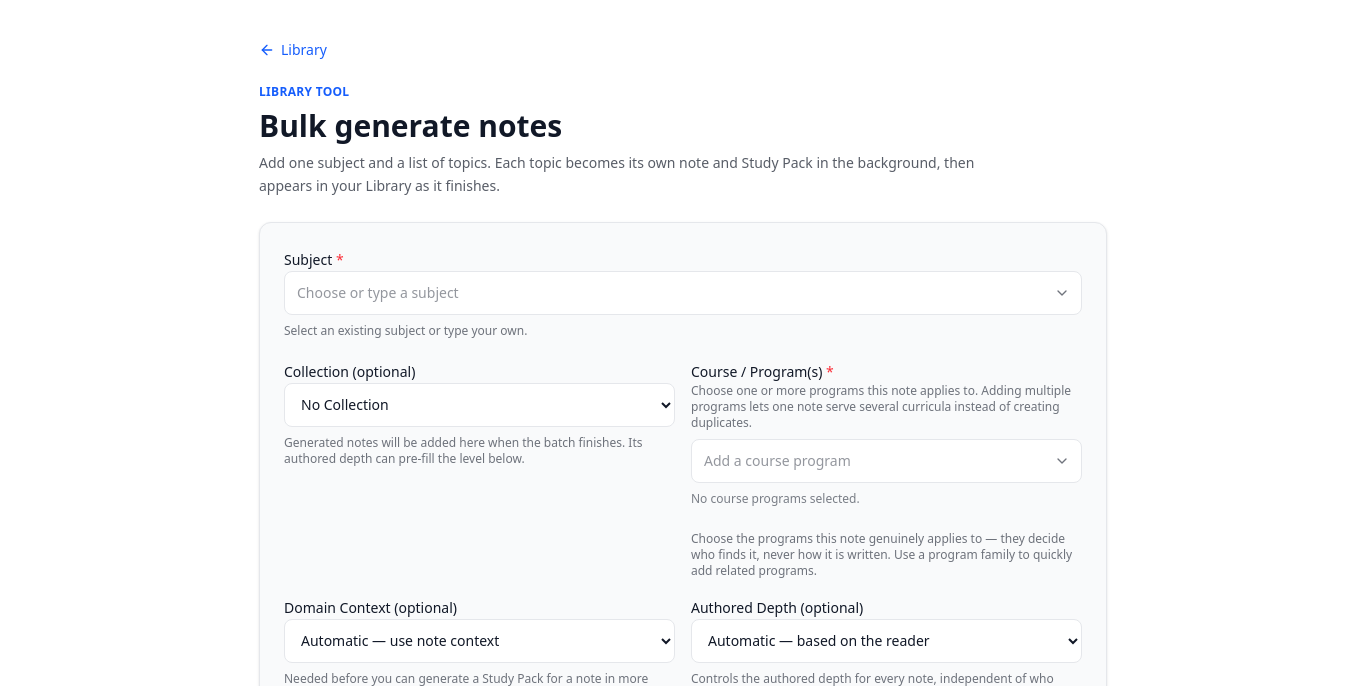
Test case: BulkGenerationPageClient › shows a zero-member family in the shared Add Course / Program modal
Type "Public Health" into the field named "Add a course or program" at (886, 460), box [691,438,1082,482]
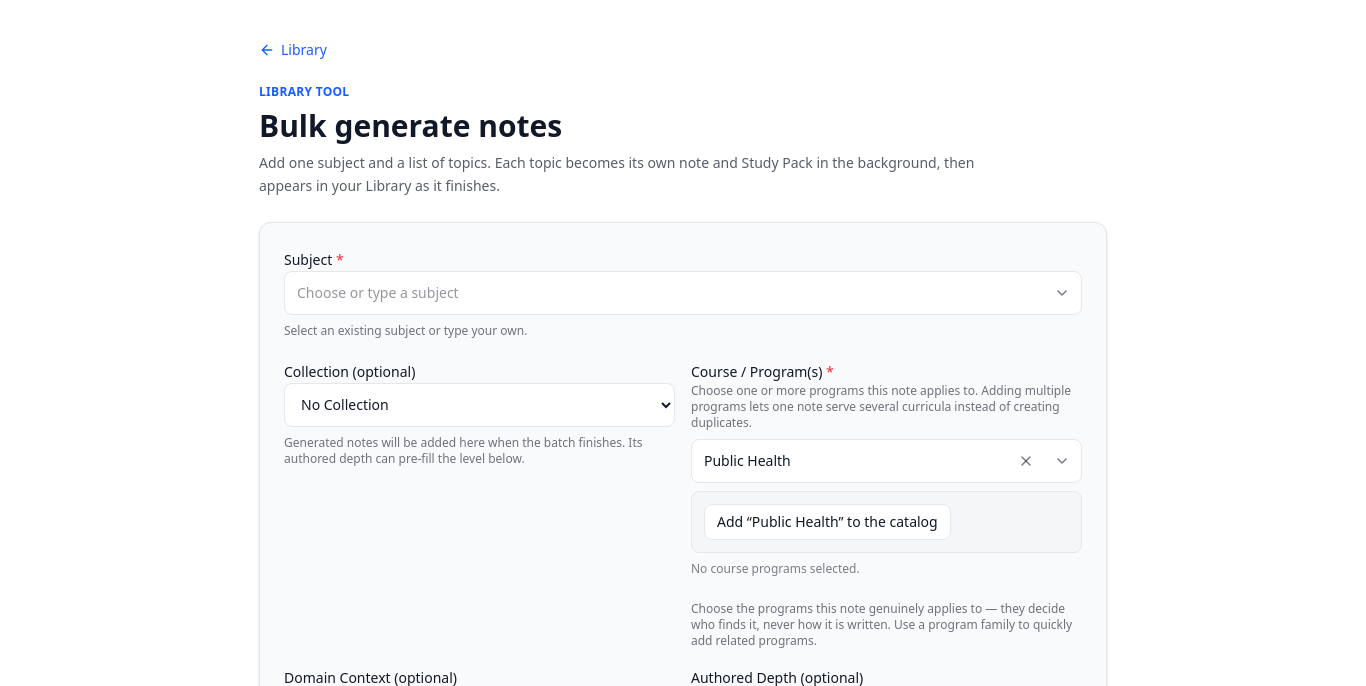
Click the button "Add “Public Health” to the catalog" at (827, 522), box [704,504,951,540]
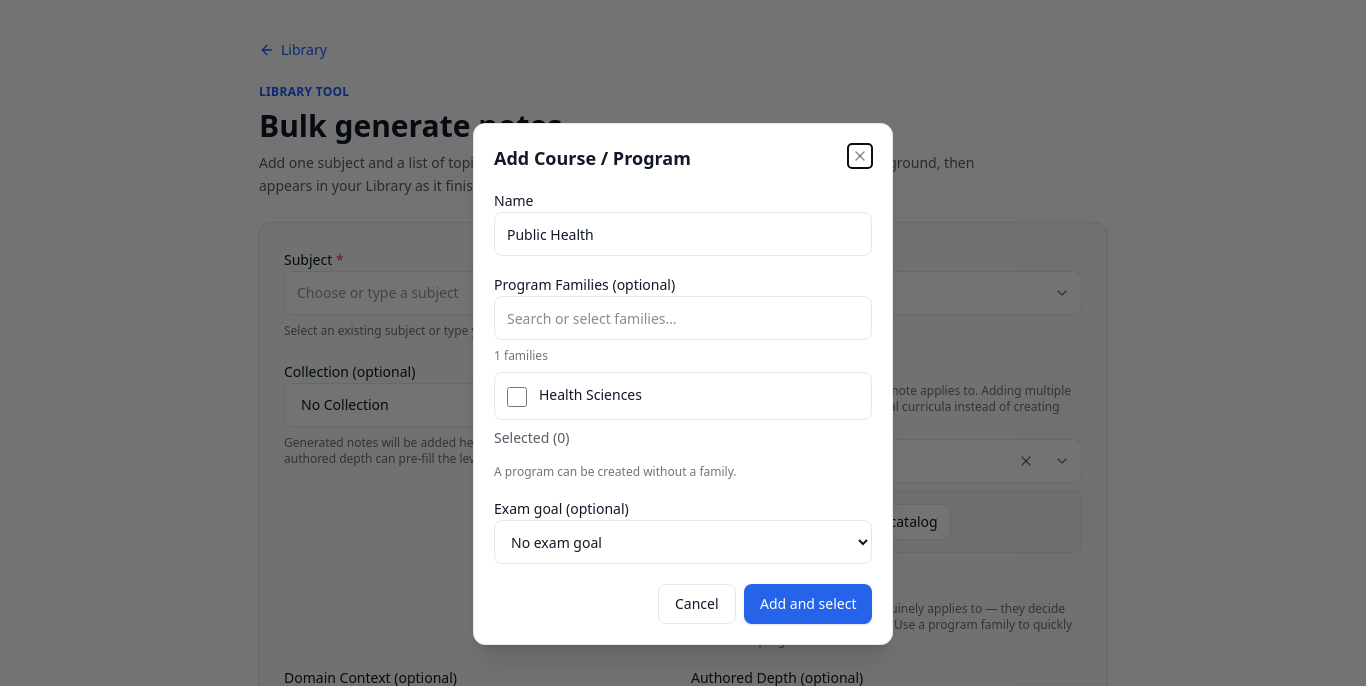
Check: the checkbox labelled "Health Sciences" is shown, box [507,387,527,407]
